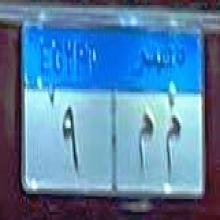9: (59, 102, 81, 172)
meem: (133, 107, 156, 180), (165, 113, 183, 183)
